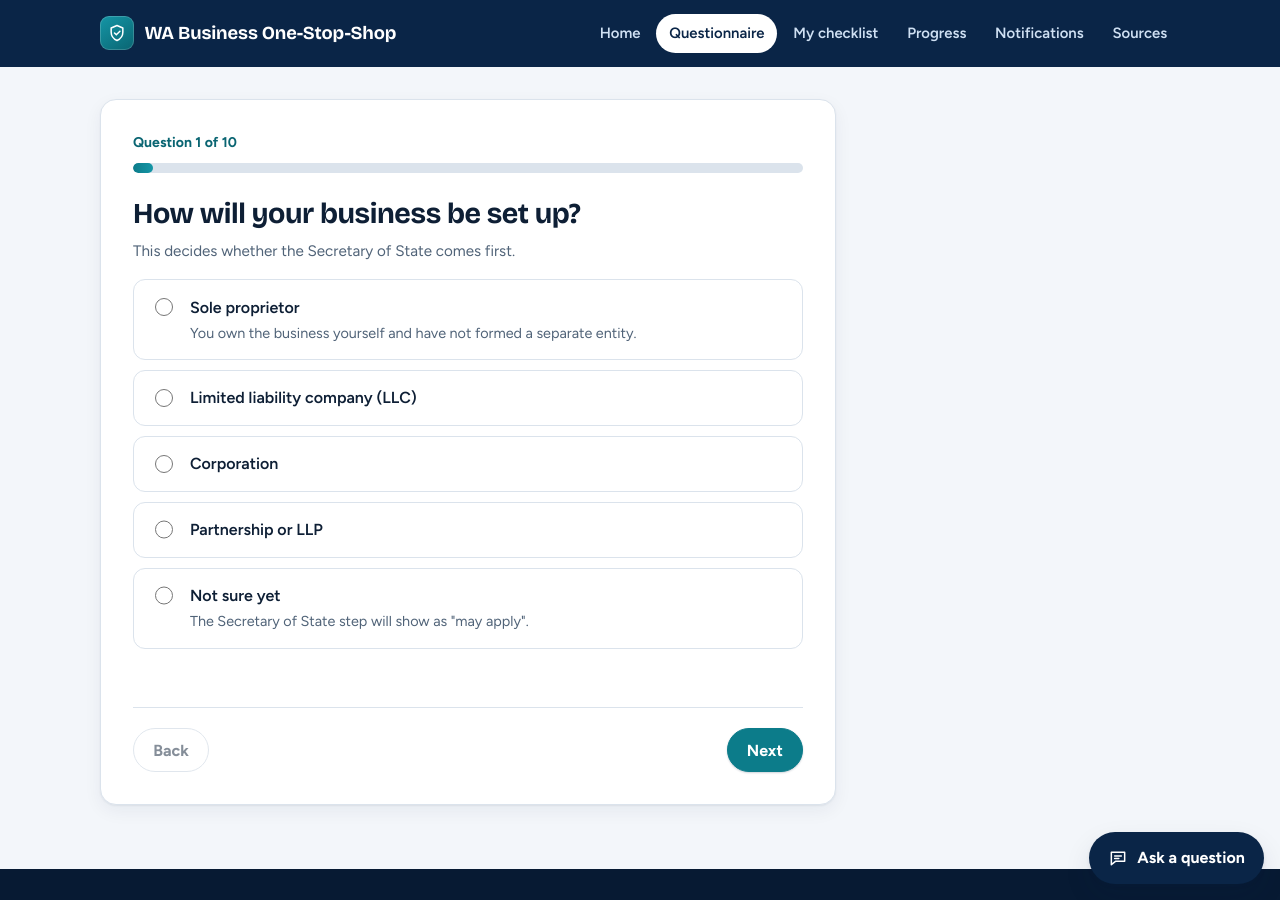
questionnaire › blocks Next until a structure is chosen, then moves on
The width and height of the screenshot is (1280, 900).
Expected: the text "Question 1 of 10" is shown, [133,134,237,151]
Click the button "Next".
click(765, 750)  # box [727,728,803,772]
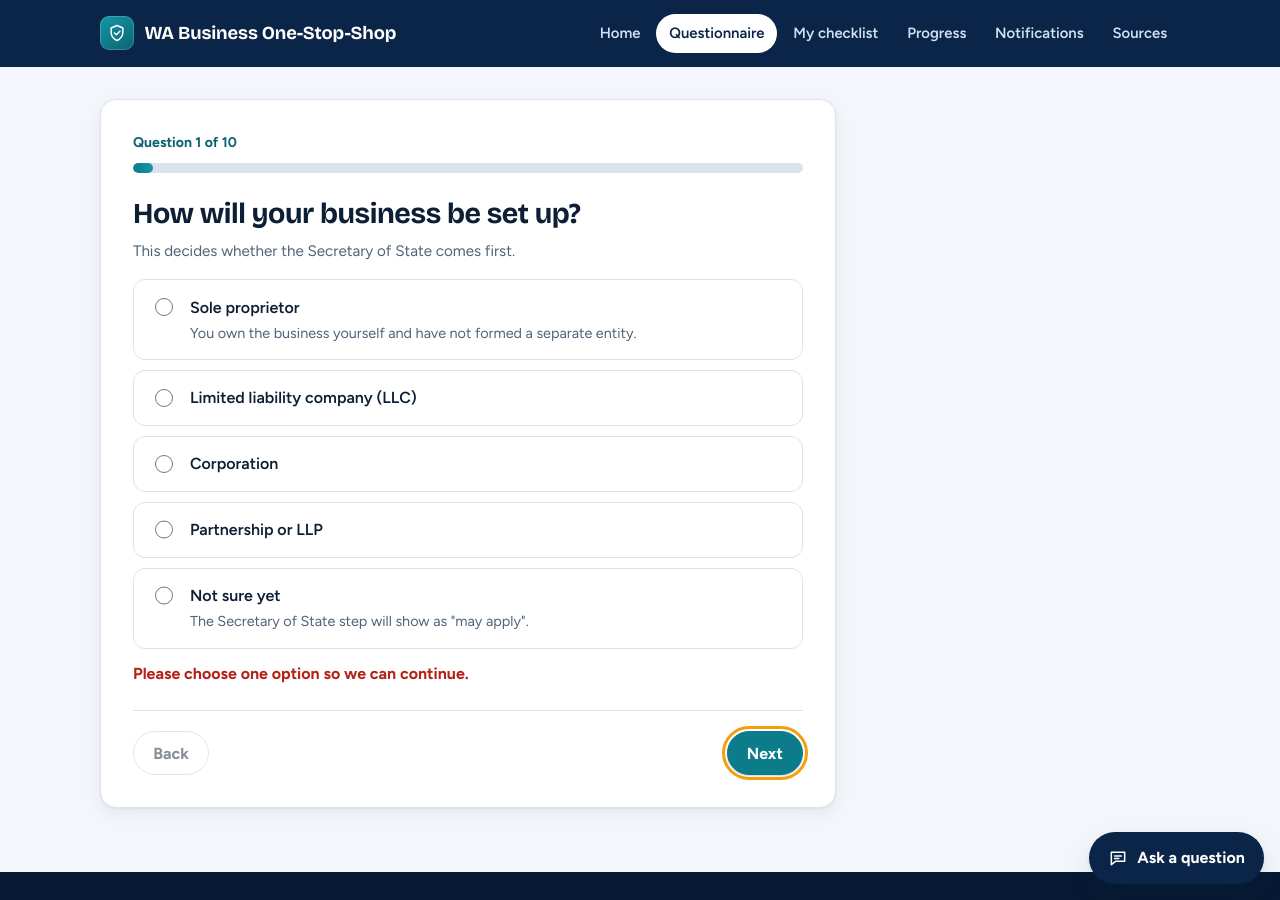
Expected: the message shows "choose one option", [133,664,469,683]
Click the radio button labelled "Limited liability company (LLC)".
click(164, 398)  # box [155,388,173,407]
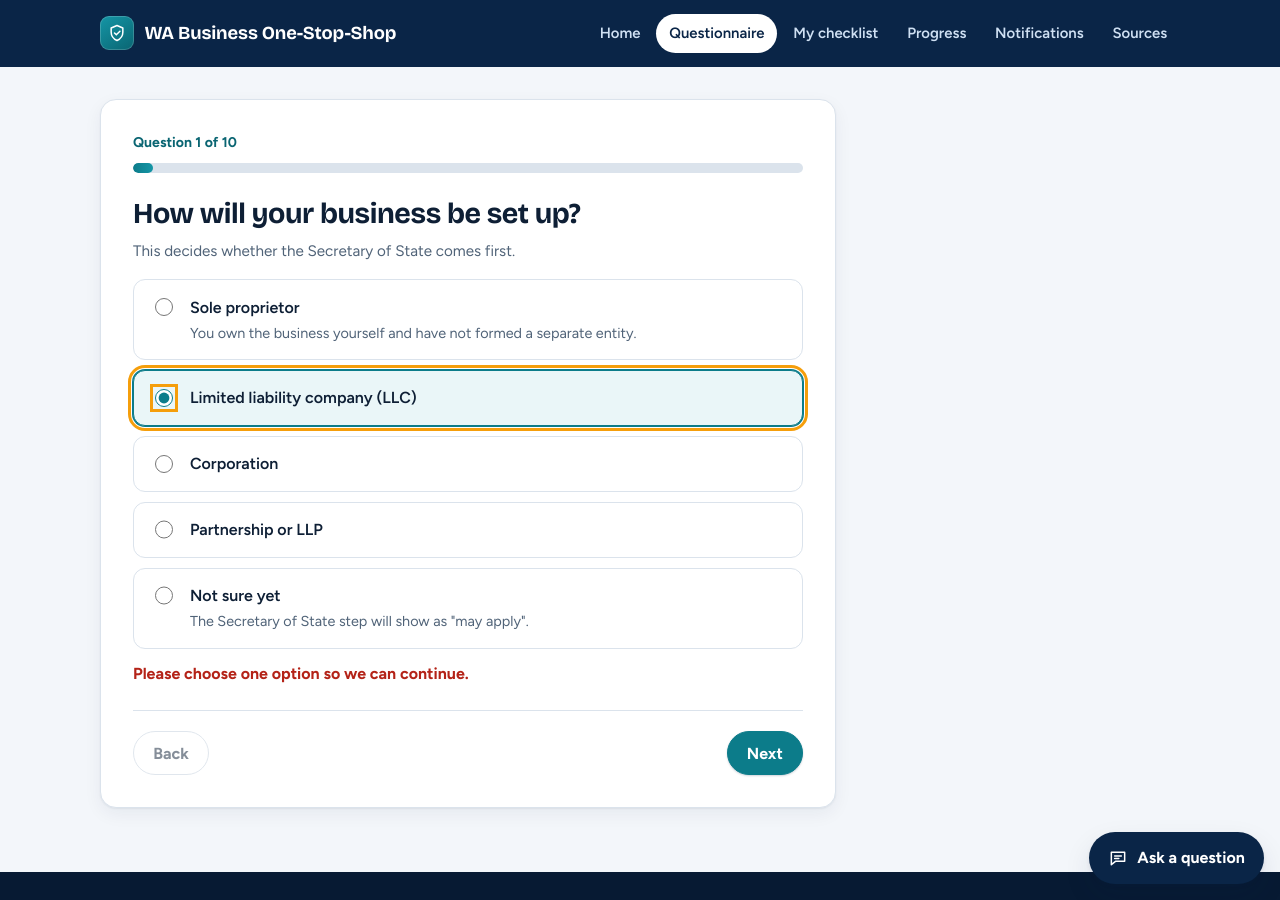
Click the button "Next".
click(765, 754)  # box [727,732,803,776]
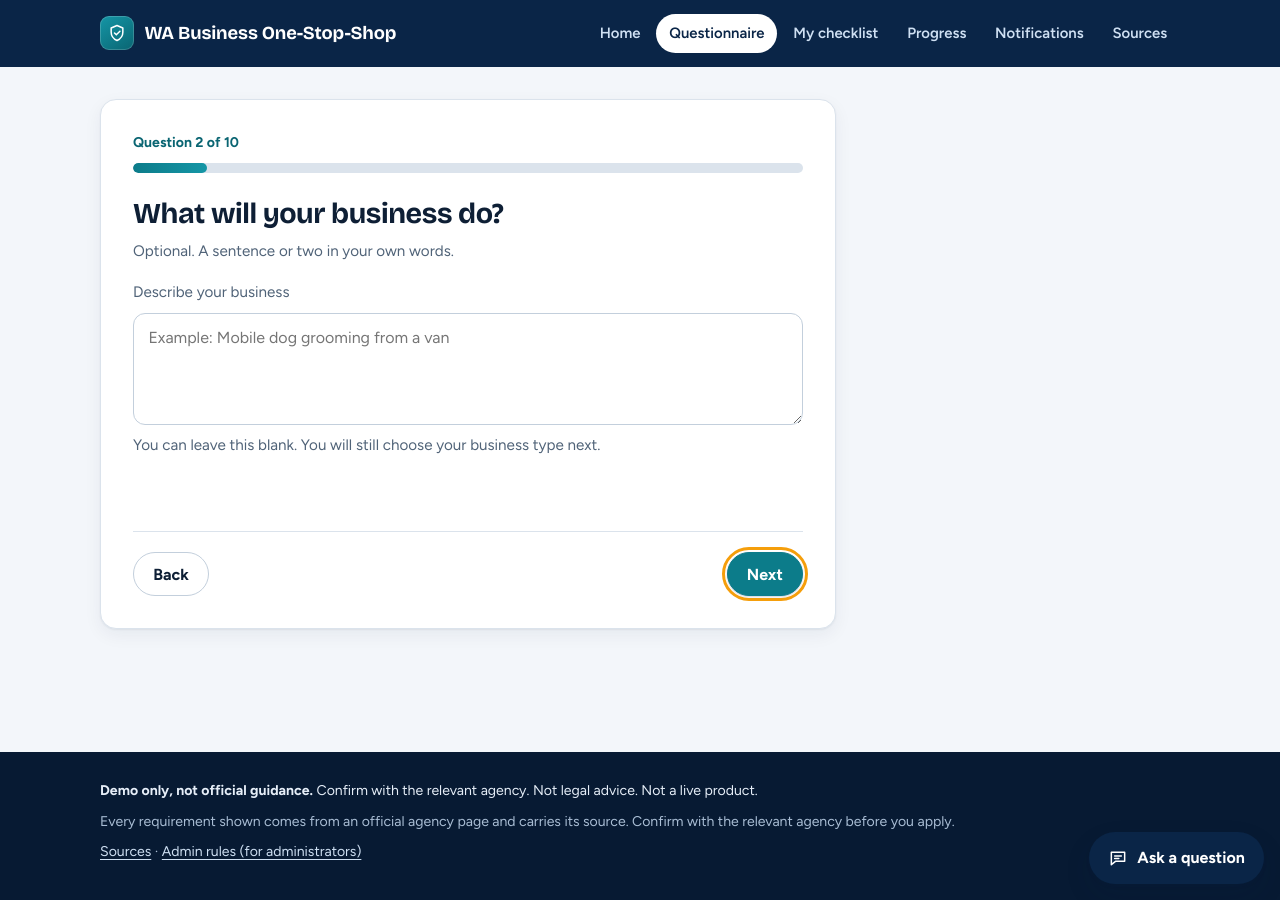
Expected: the text "Question 2 of 10" is shown, [133,134,239,151]
